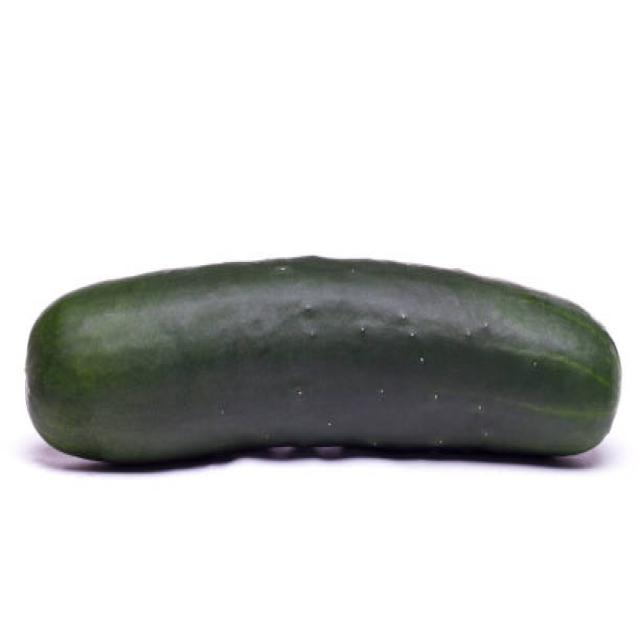cucumber: (26, 255, 621, 460)
